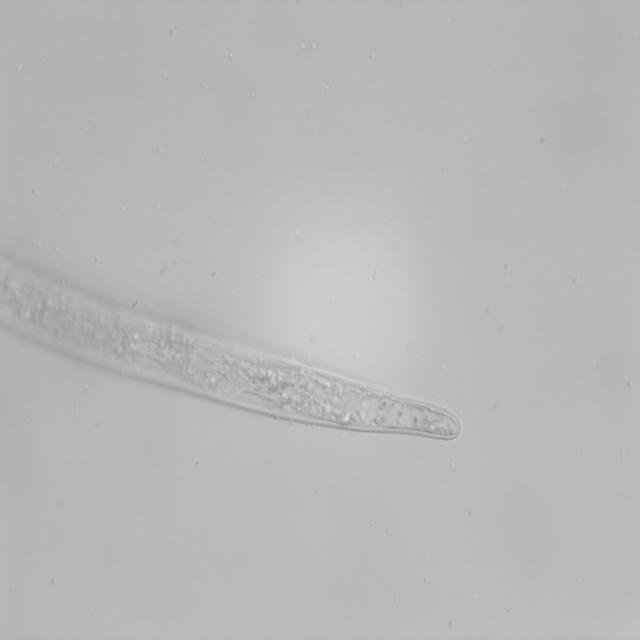Radopholus: (34, 241, 486, 447)
